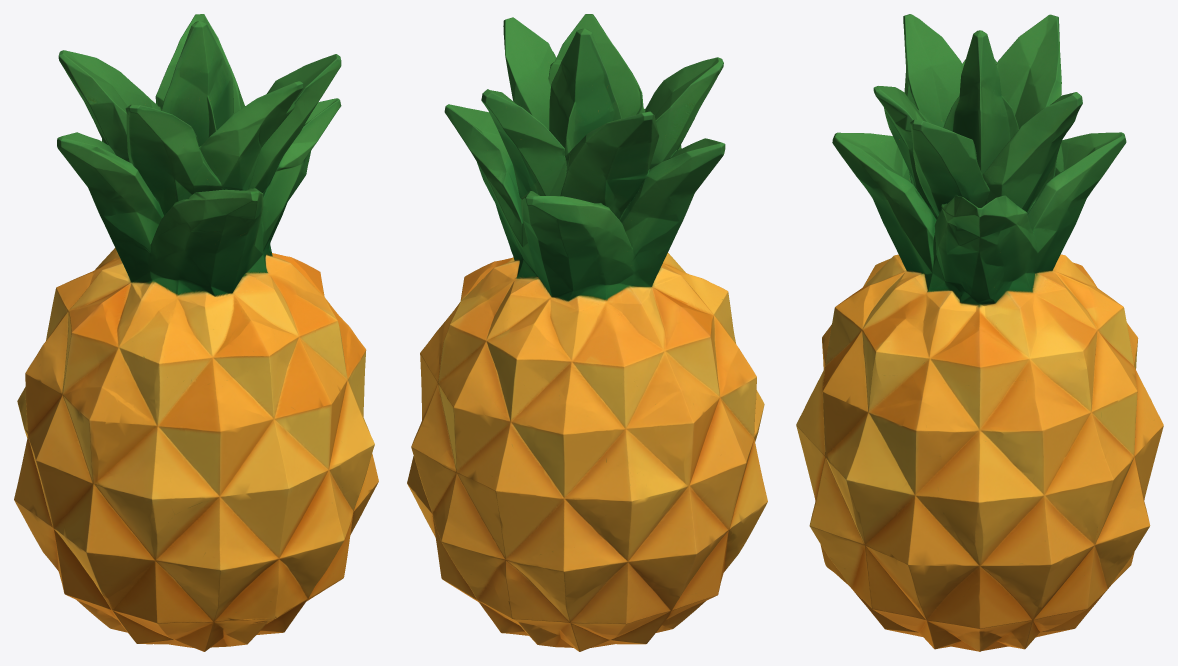
The model's file is test_pineapple.glb.
3 renders of one model, left to right at view 1: azimuth 30°, elevation 25°; view 2: azimuth 150°, elevation 25°; view 3: azimuth 270°, elevation 25°, orthographic.
Bounding box in the file's own units: 1.07 × 1.9 × 1.06.
Materials: 1 (1 with a texture image).
